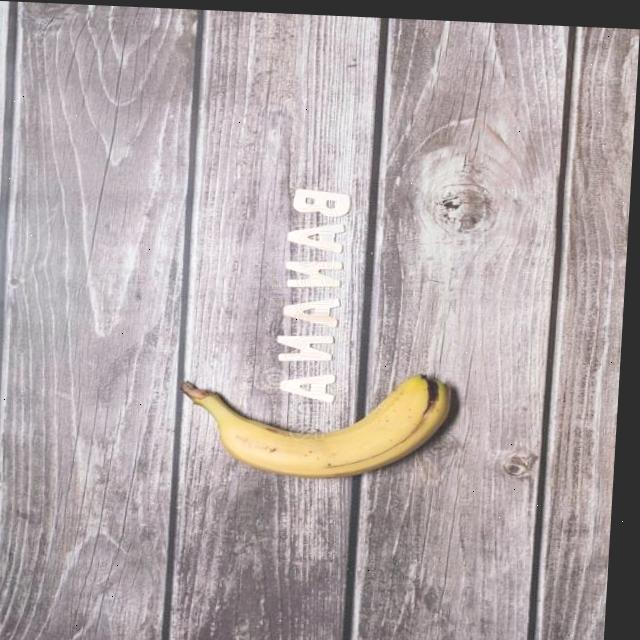banana: (184, 367, 471, 487)
